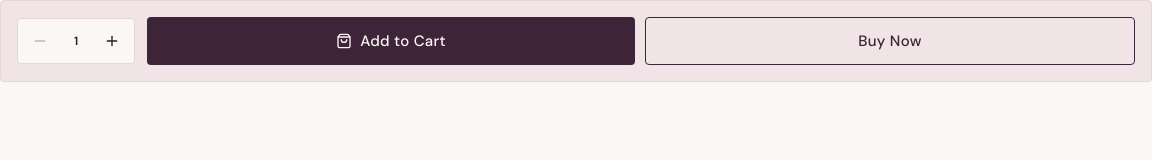
Test case: FE-19: Add-to-cart bar › on failure, keeps configuration and offers retry
Click the button "Add to Cart".
click(391, 41)  # box [147,17,635,65]
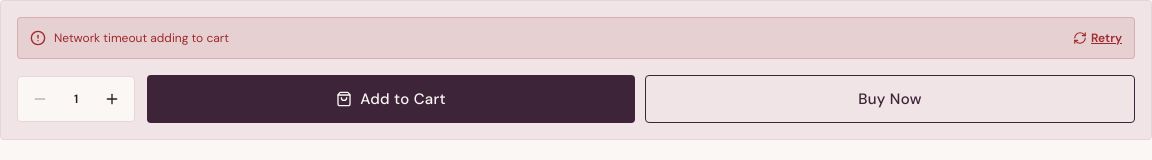
Check: the button "Add to Cart" is shown, box [147,75,635,123]
Check: the element with test id "add-to-cart-error" shows "Network timeout adding to cart", box [54,30,229,46]
Check: the button "Retry" is shown, box [1073,30,1122,46]
